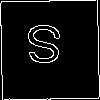S: (24, 24, 64, 73)
